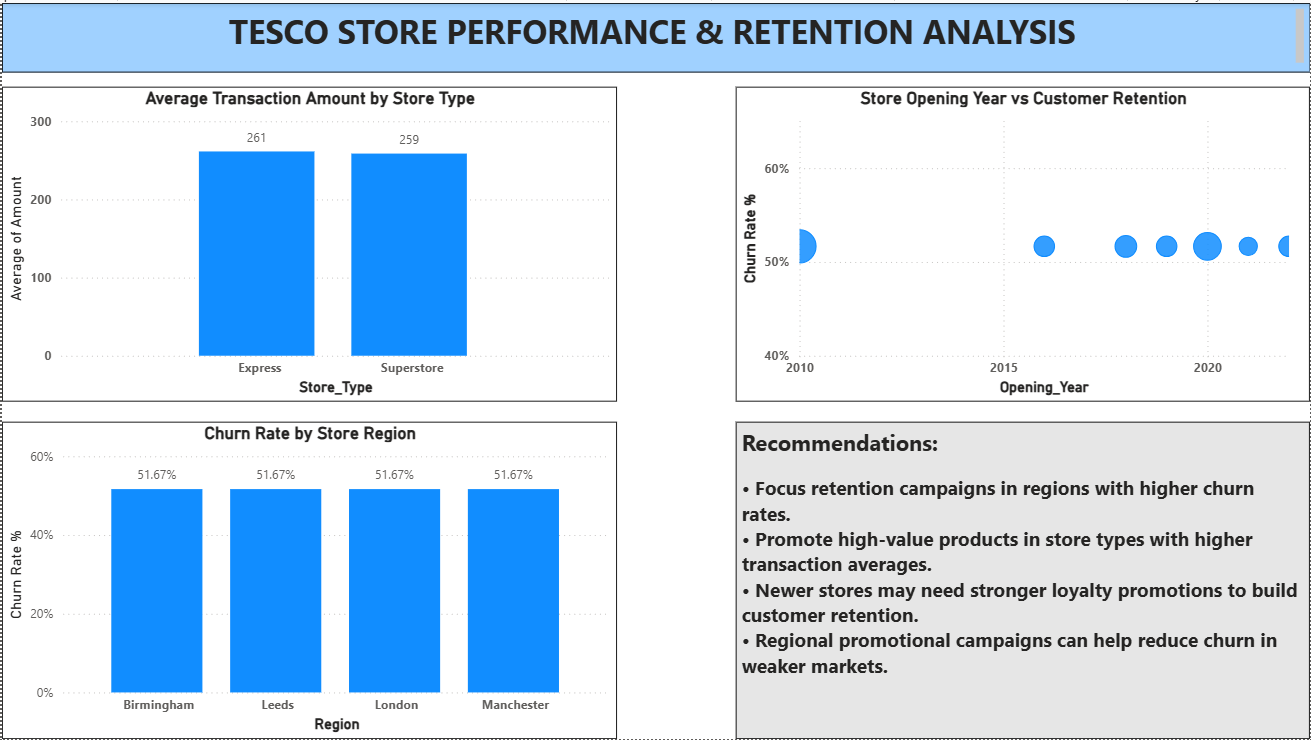

This screenshot's page, from the dashboard's own definition file:
{"tool":"powerbi","page":{"name":"STORE PERFORMANCE VS RETENTION ANALYSIS (Task 5)","canvas":[1280,720],"ordinal":3},"visuals":[{"type":"textbox","box":[0,0,1280,68.3],"z":0},{"type":"clusteredColumnChart","title":"Average Transaction Amount by Store Type","fields":{"Category":["Store_Locations.Store_Type"],"Y":["Avg(Customer_Transactions.Amount)"]},"box":[0,81.7,601.7,308.3],"z":1000},{"type":"clusteredColumnChart","title":"Churn Rate by Store Region","fields":{"Category":["Store_Locations.Region"],"Y":["Churn_Labelled_Customers.Churn Rate %"]},"box":[0,410,601.7,310],"z":2000},{"type":"scatterChart","title":"Store Opening Year vs Customer Retention","fields":{"X":["Store_Locations.Opening_Year"],"Y":["Churn_Labelled_Customers.Churn Rate %"],"Size":["CountNonNull(Customer_Transactions.Customer_ID)"]},"box":[718.3,81.7,561.7,308.3],"z":3000},{"type":"textbox","box":[718.3,410,561.7,310],"z":4000}]}

Visuals, with their boxes in screenshot pixels (x1, y1, x2, y2), scaled from the page's 1280x720 canvas onto the 1311x740 screenshot:
textbox: 0 0 1310 70
"Average Transaction Amount by Store Type" clusteredColumnChart: 0 84 616 401
"Churn Rate by Store Region" clusteredColumnChart: 0 421 616 739
"Store Opening Year vs Customer Retention" scatterChart: 736 84 1310 401
textbox: 736 421 1310 739
